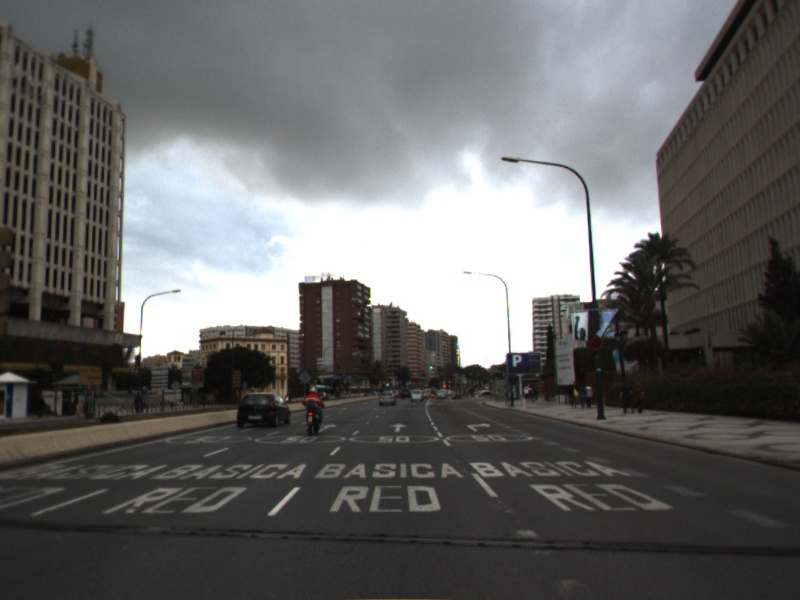RIGHT: (464, 421, 494, 434)
STRAIGHT: (388, 421, 410, 434), (316, 422, 338, 434)
